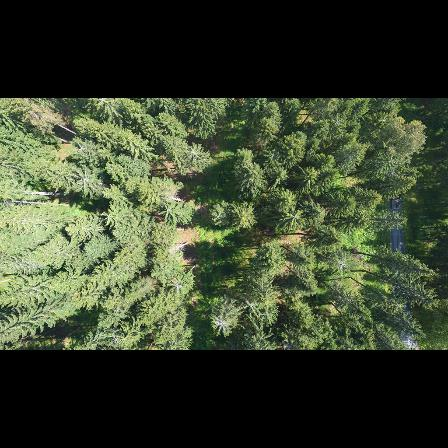Sick: (208, 313, 235, 337), (73, 166, 96, 191), (329, 254, 350, 276), (182, 144, 203, 163), (238, 297, 261, 314), (167, 276, 187, 295), (91, 98, 114, 112)
